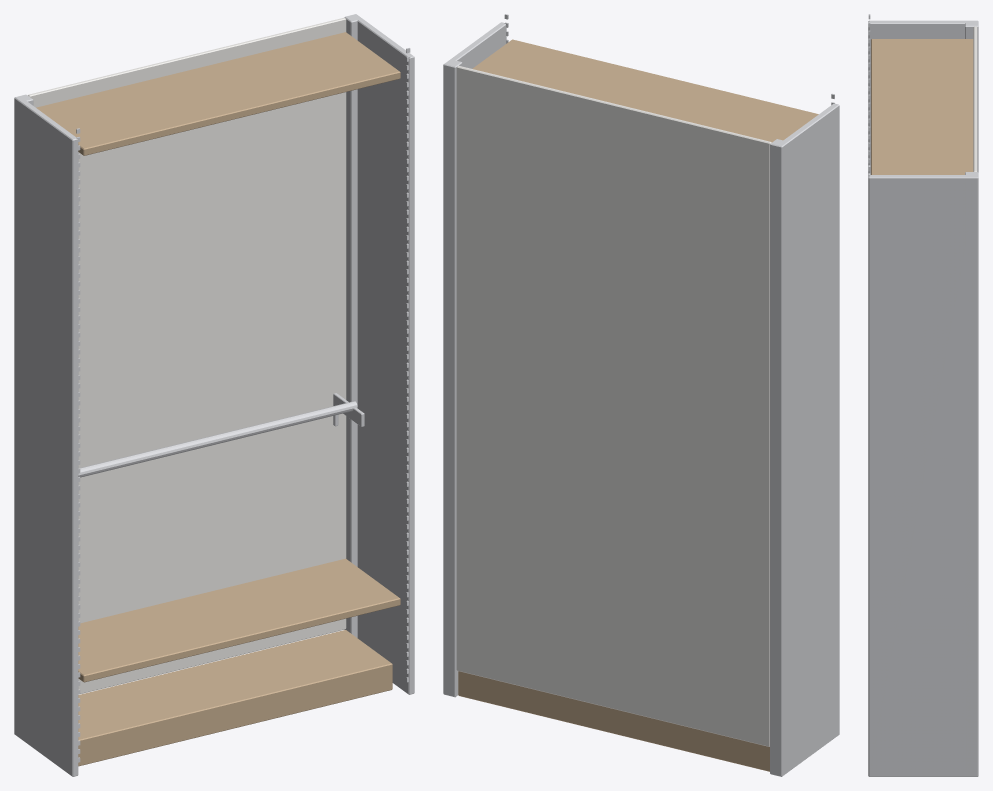
File: SM_Retail_25184_PerimeterWallBayShelfAndRail.fbx
The picture shows the model from 3 angles, left to right: view 1: azimuth 30°, elevation 25°; view 2: azimuth 150°, elevation 25°; view 3: azimuth 270°, elevation 25°; orthographic projection. The views are drawn at different scales.
Parts seen in each view (by area): view 1: SM_Retail_25184_PerimeterWallBayShelfAndRail; view 2: SM_Retail_25184_PerimeterWallBayShelfAndRail; view 3: SM_Retail_25184_PerimeterWallBayShelfAndRail.
Part boxes in pixels (x1,y1,x2,y2): SM_Retail_25184_PerimeterWallBayShelfAndRail: (14, 14, 414, 776); SM_Retail_25184_PerimeterWallBayShelfAndRail: (443, 14, 839, 776); SM_Retail_25184_PerimeterWallBayShelfAndRail: (868, 14, 978, 776).
Bounding box in the file's own units: 135 × 39.99 × 243.
